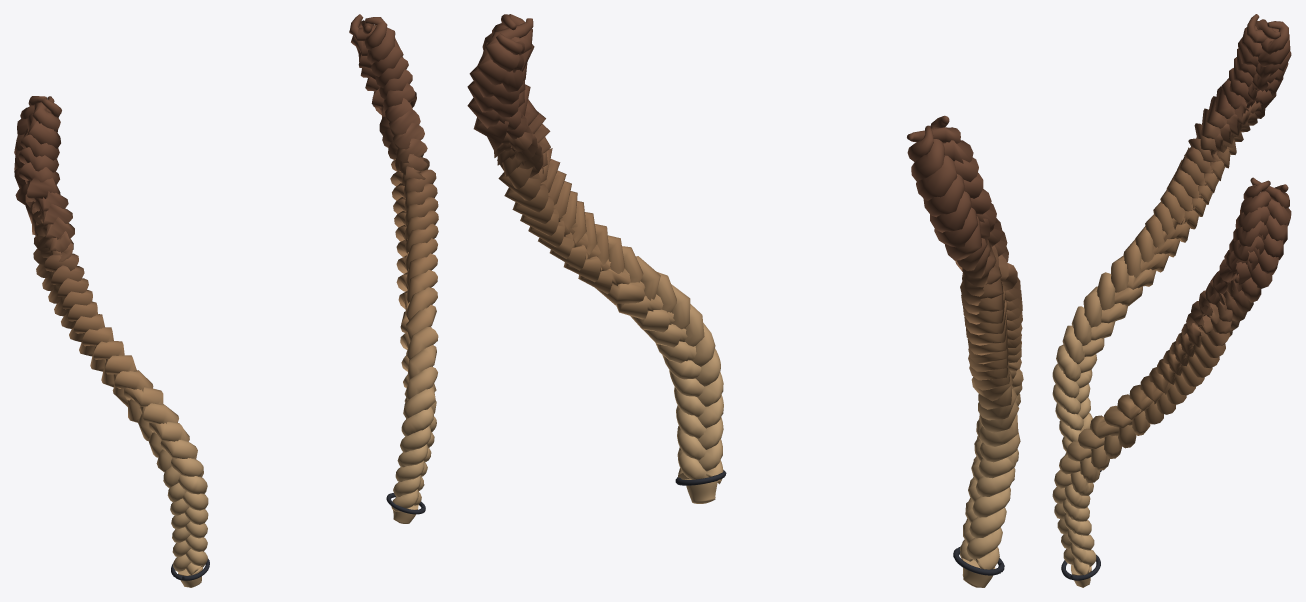
The model's file is twins-none-open-ombre.glb.
The picture shows the model from 3 angles, left to right: view 1: azimuth 30°, elevation 25°; view 2: azimuth 150°, elevation 25°; view 3: azimuth 270°, elevation 25°; orthographic projection. The views are drawn at different scales.
Visible parts, largest first — view 1: 226 hairLengths / Hair / chestnut226, 226 hairLengths / Hair / ties226; view 2: 226 hairLengths / Hair / chestnut226, 226 hairLengths / Hair / ties226; view 3: 226 hairLengths / Hair / chestnut226, 226 hairLengths / Hair / ties226.
Part boxes in pixels (left/top/right/bottom): 226 hairLengths / Hair / chestnut226: left=14, top=14, right=438, bottom=587; 226 hairLengths / Hair / ties226: left=171, top=493, right=425, bottom=580; 226 hairLengths / Hair / chestnut226: left=467, top=14, right=1023, bottom=587; 226 hairLengths / Hair / ties226: left=675, top=470, right=1004, bottom=575; 226 hairLengths / Hair / chestnut226: left=1052, top=14, right=1291, bottom=587; 226 hairLengths / Hair / ties226: left=1061, top=470, right=1101, bottom=580.
Size of the model in its own units: 0.8712 by 0.9287 by 0.4504.
Materials: 2 (1 with a texture image).
